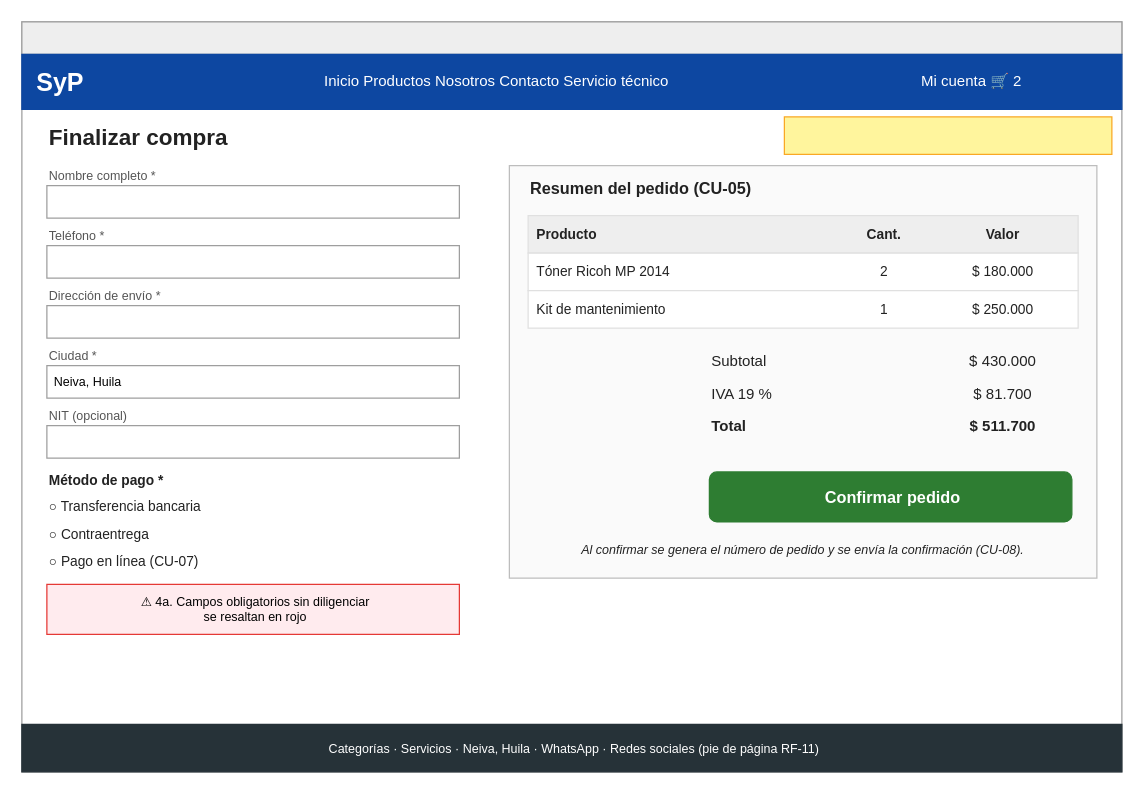
Some shapes in this 1144 by 794 pixel diagram are drawn without their labels. The shapes that lost their labels are listed below. From the top down, each one's centre as x and y in pixels, then its label:
At point (571, 37): "● ● ● fotocopiadora-syp.onrender.com/finalizar-compra".
At point (947, 135): "P-01 · atiende CU-06 Realizar pedido".
